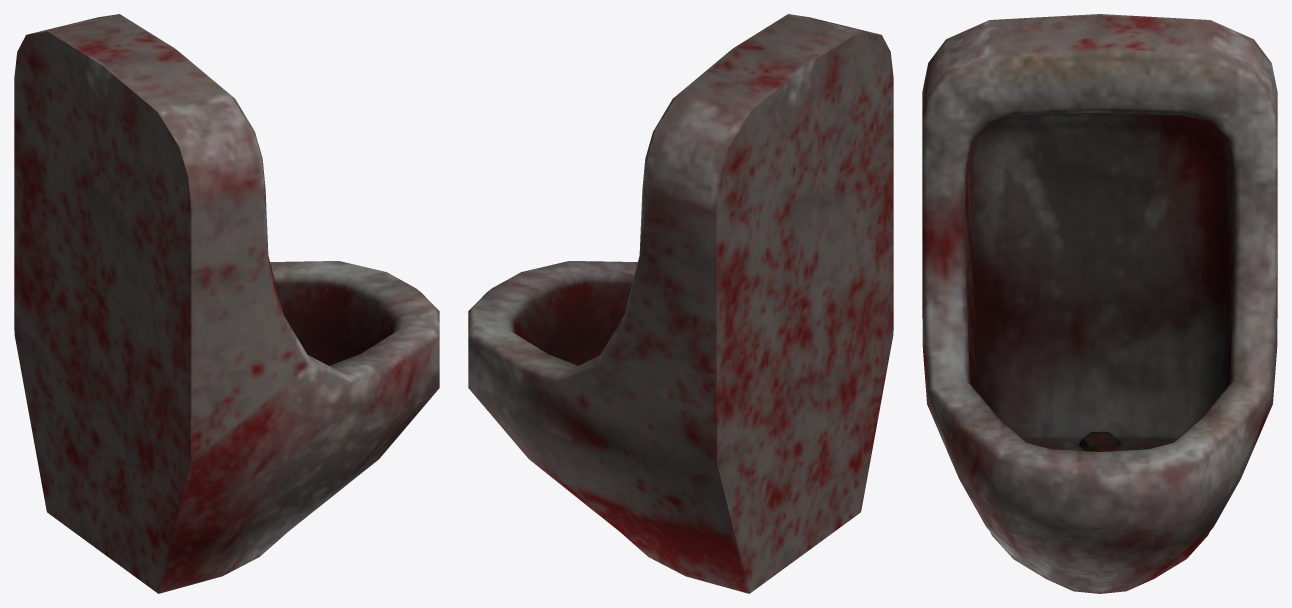
The model's file is ToiletBloody.FBX.
3 views of the same model, side by side, from view 1: azimuth 30°, elevation 25°; view 2: azimuth 150°, elevation 25°; view 3: azimuth 270°, elevation 25° (orthographic).
Visible parts, largest first — view 1: ToiletBloody; view 2: ToiletBloody; view 3: ToiletBloody.
Boxes of the visible parts, x1=… form: ToiletBloody: x1=14, y1=14, x2=439, y2=593; ToiletBloody: x1=468, y1=14, x2=893, y2=593; ToiletBloody: x1=922, y1=14, x2=1277, y2=593.
Bounding box in the file's own units: 45.8 × 67 × 44.09.
